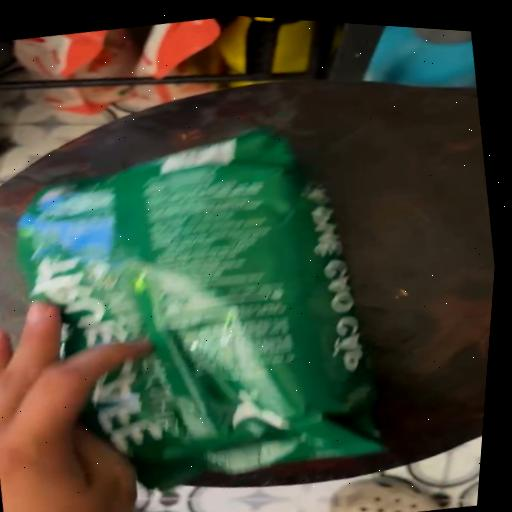cafe_xay: (18, 129, 383, 486)
